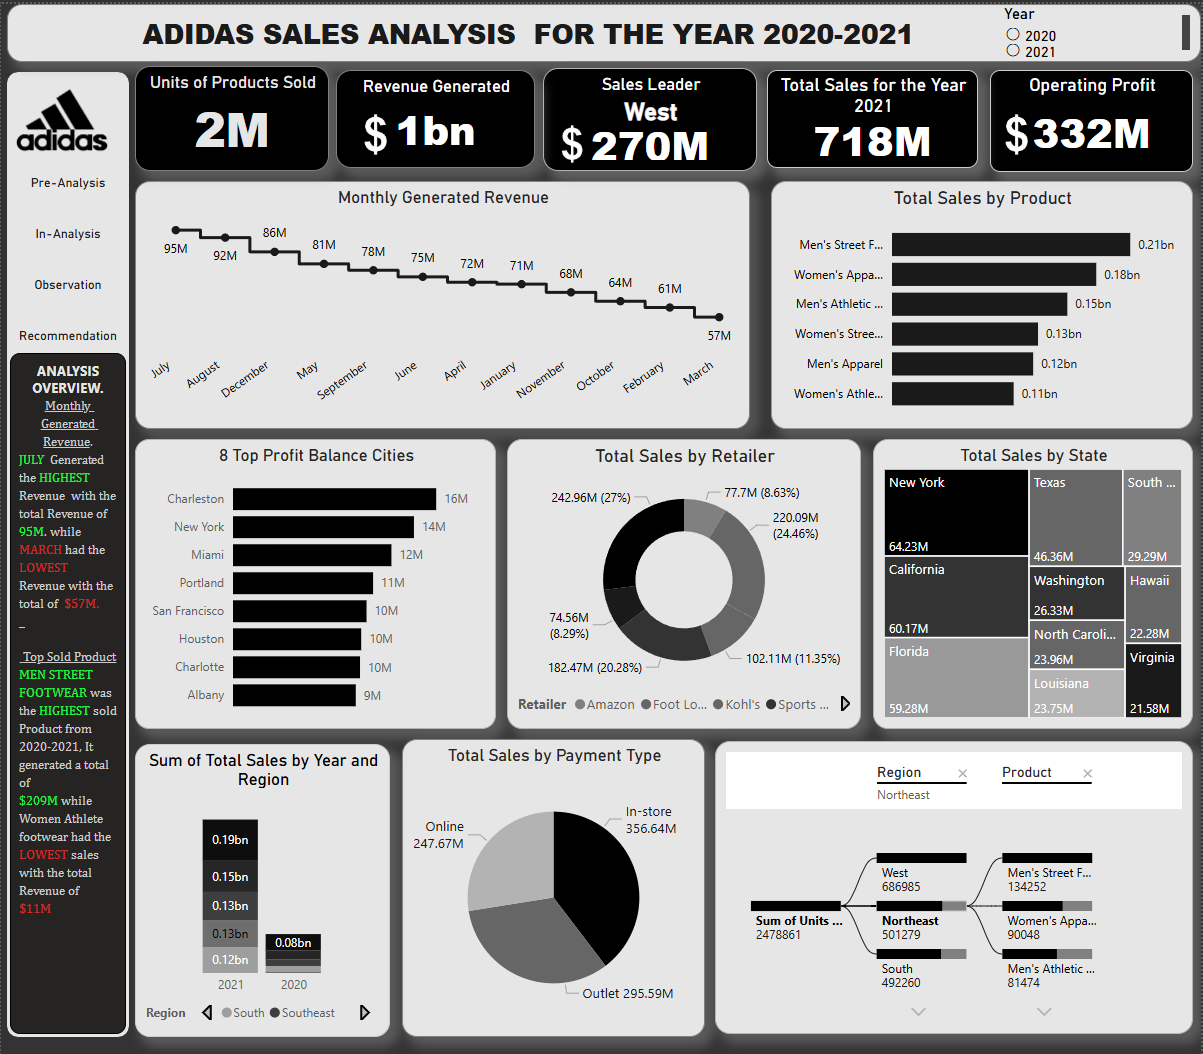

This screenshot's page, from the dashboard's own definition file:
{"tool":"powerbi","page":{"name":"Dashboard","canvas":[1200,2000],"ordinal":0},"visuals":[{"type":"shape","box":[6,68,122,965],"z":0},{"type":"textbox","box":[6,0,1194,58],"z":1000},{"type":"image","box":[0,30.9,121.8,169.1],"z":2000},{"type":"textbox","box":[9,164,116,199],"z":3000},{"type":"lineChart","title":"Monthly Generated Revenue","fields":{"Category":["Data Sales Adidas.month"],"Y":["Sum(Data Sales Adidas.Total Sales)"]},"box":[134,177,615,248],"z":4000},{"type":"barChart","title":"Total Sales by Product","fields":{"Category":["Data Sales Adidas.Product"],"Y":["Sum(Data Sales Adidas.Total Sales)"]},"box":[770,177,422,248],"z":5000},{"type":"clusteredBarChart","title":"8 Top Profit Balance  Cities","fields":{"Category":["Data Sales Adidas.City"],"Y":["Data Sales Adidas.Profit Balance"]},"box":[134,435,361,290],"z":6000},{"type":"donutChart","title":"Total Sales by Retailer","fields":{"Category":["Data Sales Adidas.Retailer"],"Y":["Sum(Data Sales Adidas.Total Sales)"]},"box":[506,435,354,290],"z":7000},{"type":"pieChart","title":"Total Sales by Payment Type","fields":{"Category":["Data Sales Adidas.Sales Method"],"Y":["Sum(Data Sales Adidas.Total Sales)"]},"box":[401,735,303,298],"z":8000},{"type":"card","title":"Units of Products Sold","fields":{"Values":["Sum(Data Sales Adidas.Units Sold)"]},"box":[134,62,194,105],"z":9000},{"type":"treemap","title":" Total Sales by State","fields":{"Group":["Data Sales Adidas.State"],"Values":["Sum(Data Sales Adidas.Total Sales)"]},"box":[872,435,320,290],"z":10000},{"type":"decompositionTreeVisual","fields":{"ExplainBy":["Data Sales Adidas.Region","Data Sales Adidas.Product"],"Analyze":["Sum(Data Sales Adidas.Units Sold)"]},"box":[714,737,478,293],"z":11000},{"type":"card","title":"Sales Leader","fields":{"Values":["Sum(Data Sales Adidas.Total Sales)"]},"box":[542,64,214,103],"z":12000},{"type":"card","title":"Operating Profit","fields":{"Values":["Sum(Data Sales Adidas.Operating Profit)"]},"box":[989,66,203,102],"z":13000},{"type":"card","title":"Revenue Generated","fields":{"Values":["Sum(Data Sales Adidas.Total Sales)"]},"box":[335,66,199,98],"z":14000},{"type":"image","box":[542,116,58,48],"z":17000},{"type":"image","box":[347,105,54,51],"z":18000},{"type":"columnChart","fields":{"Category":["Data Sales Adidas.Year"],"Series":["Data Sales Adidas.Region"],"Y":["Sum(Data Sales Adidas.Total Sales)"]},"box":[134,740,255,293],"z":20000},{"type":"card","title":"Total Sales for the Year 2021","fields":{"Values":["Sum(Data Sales Adidas.Total Sales)"]},"box":[766,66,211,98],"z":22000},{"type":"image","box":[988,105,54,51],"z":23001},{"type":"textbox","box":[9,349,116,681],"z":23002},{"type":"listSlicer","fields":{"Values":["Data Sales Adidas.Year"]},"box":[998,0,202,156],"z":23003}]}

Visuals, with their boxes on the page's 1200x2000 design canvas (x1, y1, x2, y2). These are canvas units, not pixel positions in the 1203x1054 screenshot, which may show the page scaled, cropped or inside an application window:
shape: <box>6,68,128,1033</box>
textbox: <box>6,0,1200,58</box>
image: <box>0,31,122,200</box>
textbox: <box>9,164,125,363</box>
"Monthly Generated Revenue" lineChart: <box>134,177,749,425</box>
"Total Sales by Product" barChart: <box>770,177,1192,425</box>
"8 Top Profit Balance  Cities" clusteredBarChart: <box>134,435,495,725</box>
"Total Sales by Retailer" donutChart: <box>506,435,860,725</box>
"Total Sales by Payment Type" pieChart: <box>401,735,704,1033</box>
"Units of Products Sold" card: <box>134,62,328,167</box>
" Total Sales by State" treemap: <box>872,435,1192,725</box>
decompositionTreeVisual - Data Sales Adidas.Region x Data Sales Adidas.Product: <box>714,737,1192,1030</box>
"Sales Leader" card: <box>542,64,756,167</box>
"Operating Profit" card: <box>989,66,1192,168</box>
"Revenue Generated" card: <box>335,66,534,164</box>
image: <box>542,116,600,164</box>
image: <box>347,105,401,156</box>
columnChart - Data Sales Adidas.Year x Data Sales Adidas.Region: <box>134,740,389,1033</box>
"Total Sales for the Year 2021" card: <box>766,66,977,164</box>
image: <box>988,105,1042,156</box>
textbox: <box>9,349,125,1030</box>
listSlicer - Data Sales Adidas.Year: <box>998,0,1200,156</box>
